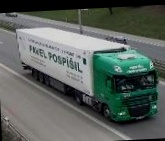truck: (16, 22, 160, 128)
